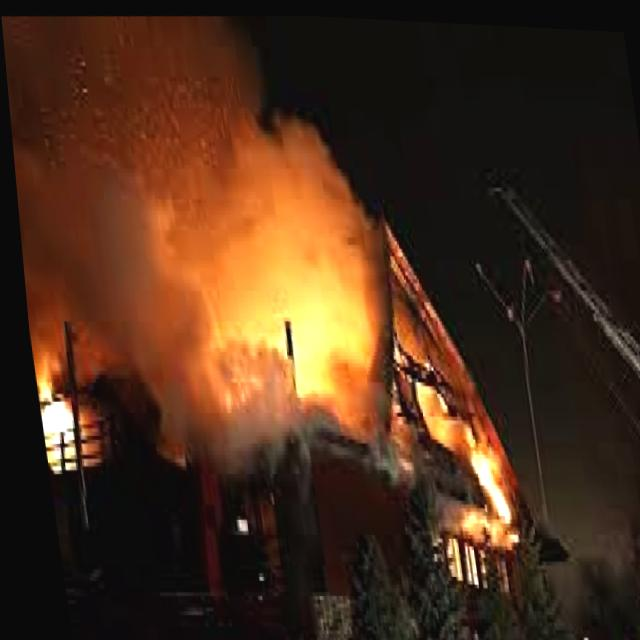helmet: (450, 427, 520, 521)
no_helmet: (4, 57, 386, 469)
